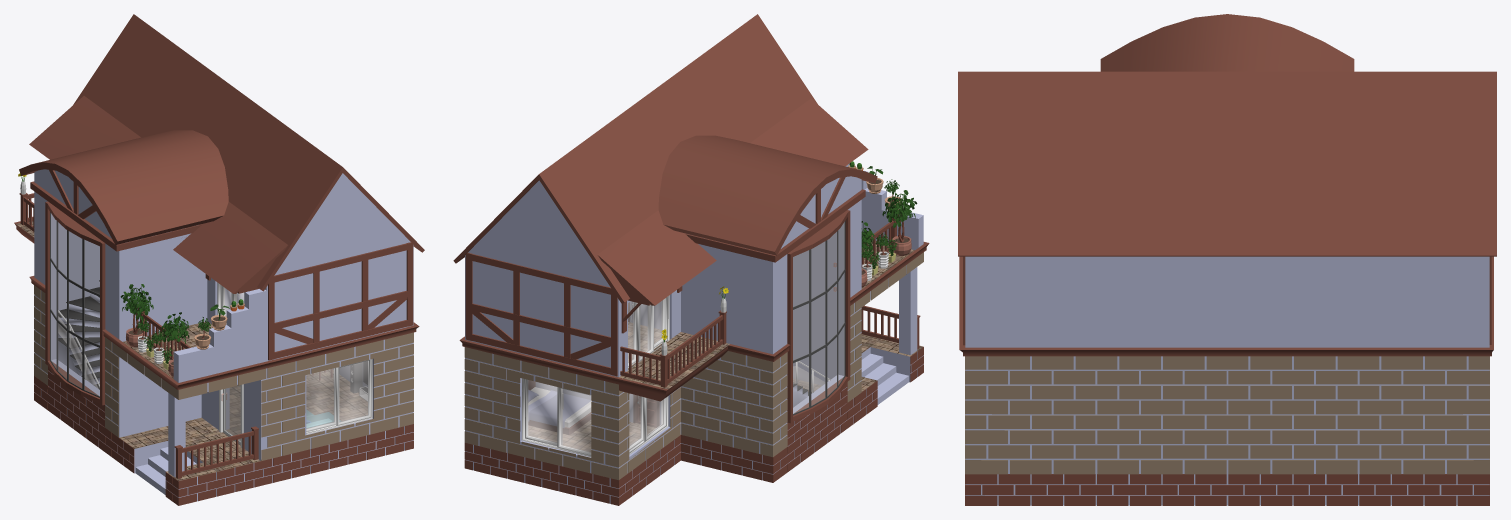
File: puppet-house.glb
3 views of the same model, side by side, from view 1: azimuth 30°, elevation 25°; view 2: azimuth 150°, elevation 25°; view 3: azimuth 270°, elevation 25° (orthographic). The views are drawn at different scales.
Parts seen in each view (by area): view 1: name56_1, name56.001_0, name57_0, name56_0, name56_2, name56.007_0, name56.001_1, name56.004_0, name56.005_0, name56.009_0, name56.002_0, Window Panel.011_2 (+8 smaller); view 2: name56_1, name56.001_0, name57_0, name56_0, name56.007_0, name56.004_0, name56_2, name56.001_1, name56.005_0, name56.002_0, Window Panel.009_2, Window Panel.008_2 (+7 smaller); view 3: name57_0, name56.001_0, name56_0, name56_1.
Part boxes in pixels (<box>): name56_1: <box>14,96,419,505</box>; name56.001_0: <box>34,191,413,501</box>; name57_0: <box>73,14,424,291</box>; name56_0: <box>34,285,413,460</box>; name56_2: <box>34,169,266,477</box>; name56.007_0: <box>51,214,99,396</box>; name56.001_1: <box>16,221,367,481</box>; name56.004_0: <box>276,173,408,272</box>; name56.005_0: <box>45,201,105,405</box>; name56.009_0: <box>174,426,258,478</box>; name56.002_0: <box>50,212,99,397</box>; Window Panel.011_2: <box>339,361,368,422</box>; name56_1: <box>459,98,929,505</box>; name56.001_0: <box>465,200,923,503</box>; name57_0: <box>453,14,817,303</box>; name56_0: <box>464,252,923,480</box>; name56.007_0: <box>793,222,844,413</box>; name56.004_0: <box>470,180,608,284</box>; name56_2: <box>698,163,923,355</box>; name56.001_1: <box>528,240,923,451</box>; name56.005_0: <box>787,210,850,423</box>; name56.002_0: <box>793,220,845,415</box>; Window Panel.009_2: <box>560,388,591,452</box>; Window Panel.008_2: <box>528,380,557,442</box>; name57_0: <box>958,71,1496,256</box>; name56.001_0: <box>965,256,1489,505</box>; name56_0: <box>965,356,1489,474</box>; name56_1: <box>959,14,1493,505</box>.
Bounding box in the file's own units: 10.83 × 12.24 × 15.41.
46 materials, 1 textured.
